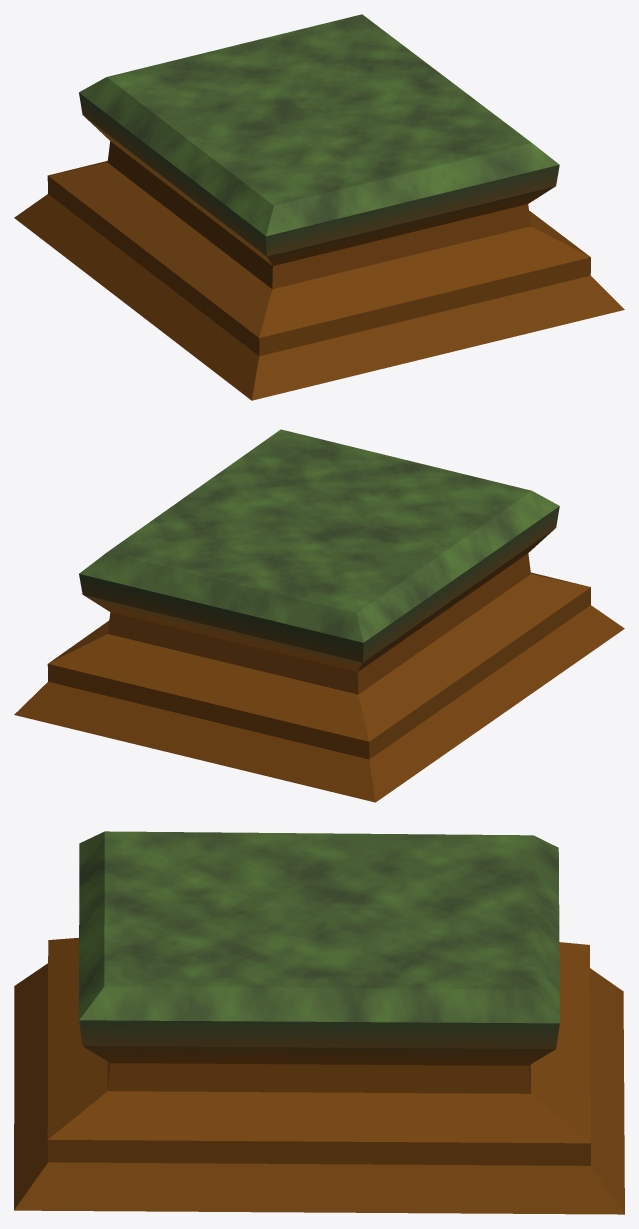
Rendered from T2_Terreno_Lvl1_T.fbx.
The picture shows the model from 3 angles, top to bottom: view 1: azimuth 30°, elevation 25°; view 2: azimuth 150°, elevation 25°; view 3: azimuth 270°, elevation 25°; orthographic projection. The views are drawn at different scales.
Visible parts, largest first — view 1: T2_modelosBlockout_nivel1; view 2: T2_modelosBlockout_nivel1; view 3: T2_modelosBlockout_nivel1.
Part boxes in pixels (x1,y1,x2,y2): T2_modelosBlockout_nivel1: [14, 14, 624, 400]; T2_modelosBlockout_nivel1: [14, 429, 624, 802]; T2_modelosBlockout_nivel1: [14, 831, 624, 1214].
Bounding box in the file's own units: 2144 × 831 × 2423.
